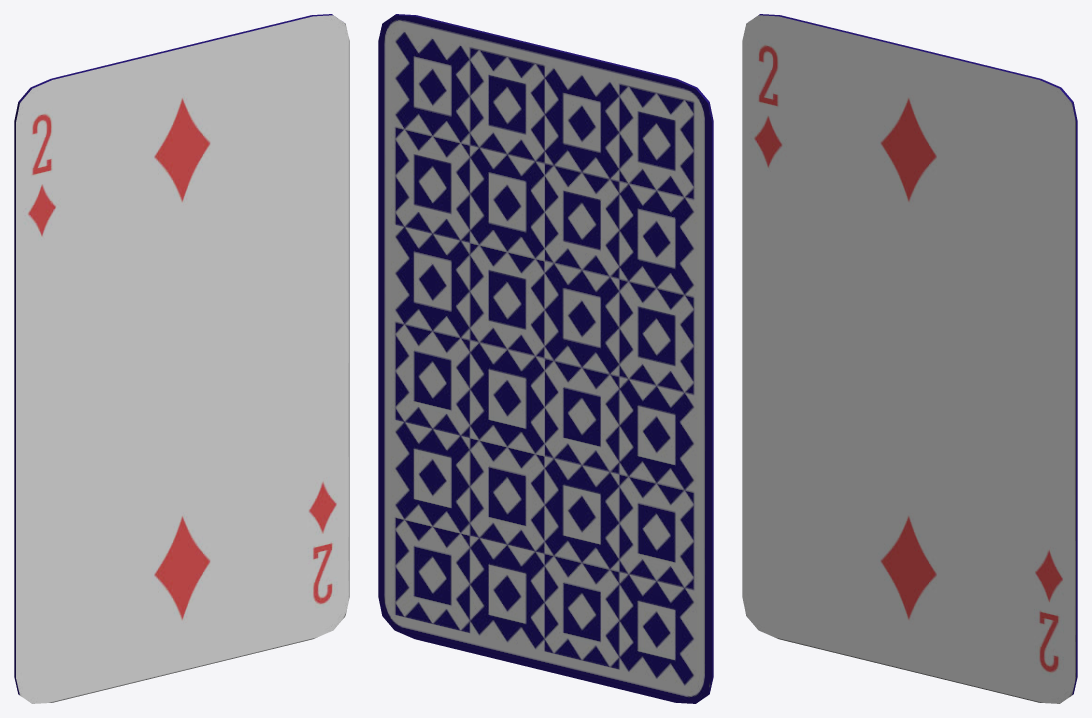
The picture shows the model from 3 angles, left to right: view 1: azimuth 30°, elevation 25°; view 2: azimuth 150°, elevation 25°; view 3: azimuth 330°, elevation 25°; orthographic projection.
Parts seen in each view (by area): view 1: Two of Diamonds; view 2: Two of Diamonds; view 3: Two of Diamonds.
Boxes of the visible parts, <box> form: Two of Diamonds: <box>14,14,349,703</box>; Two of Diamonds: <box>378,14,713,703</box>; Two of Diamonds: <box>742,14,1077,703</box>.
Bounding box in the file's own units: 1.43 × 2.54 × 0.0125.
Materials: 3 (3 with a texture image).
